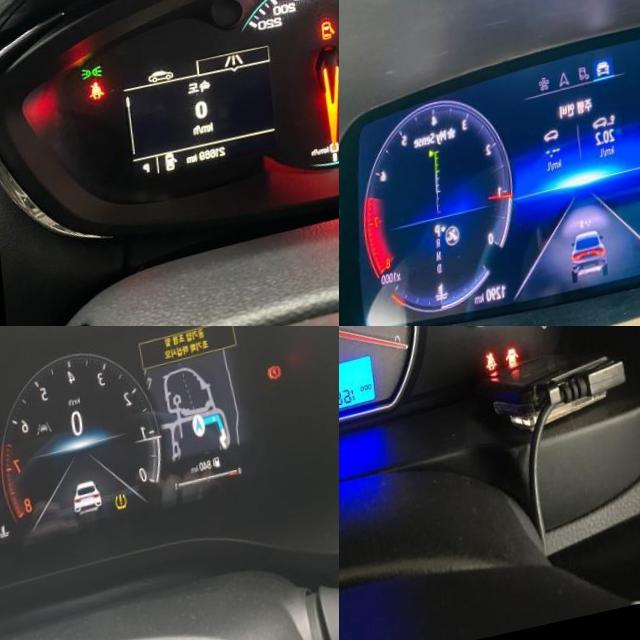Doors: (316, 36, 331, 56), (499, 367, 513, 387)
SideLamp: (76, 69, 98, 86)
